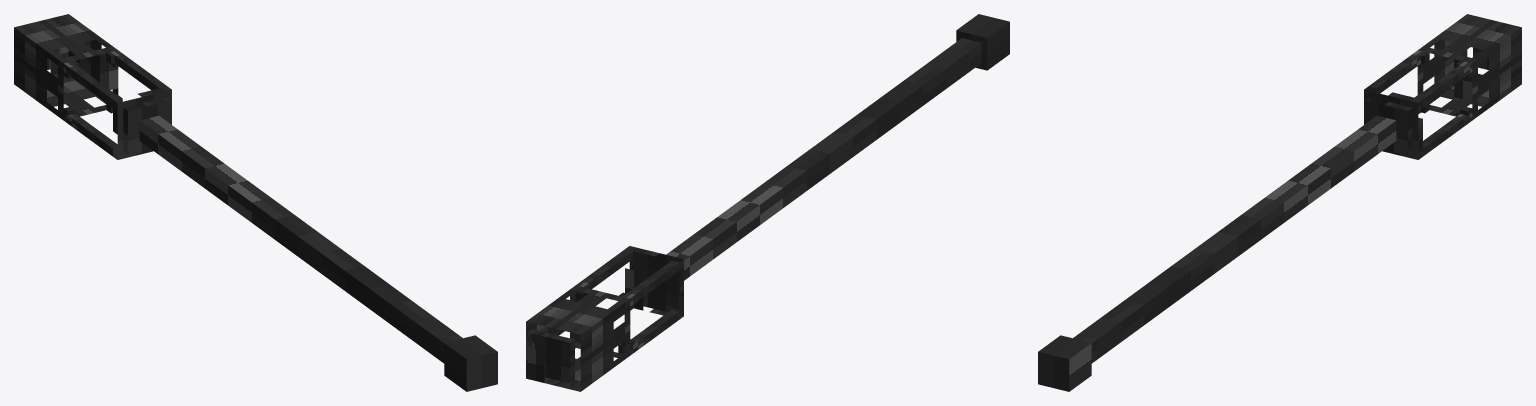
The model's file is withered_wabbajack.glb.
3 renders of one model, left to right at view 1: azimuth 30°, elevation 25°; view 2: azimuth 150°, elevation 25°; view 3: azimuth 330°, elevation 25°, orthographic.
Visible parts, largest first — view 1: main__Tool_R; view 2: main__Tool_R; view 3: main__Tool_R.
Boxes of the visible parts, x1,y1,x2,y2 form: main__Tool_R: (14,14,497,391); main__Tool_R: (526,14,1009,391); main__Tool_R: (1038,14,1521,391).
Bounding box in the file's own units: 0.175 × 0.175 × 2.47.
Materials: 1 (1 with a texture image).
